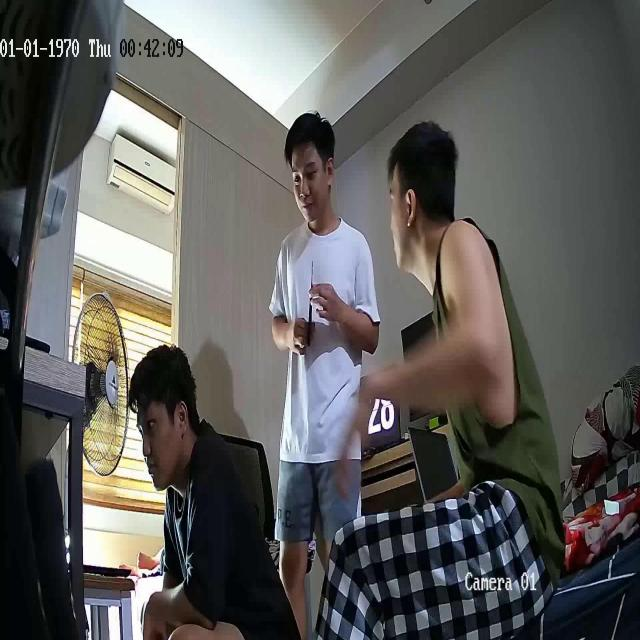scissor: (307, 260, 314, 346)
